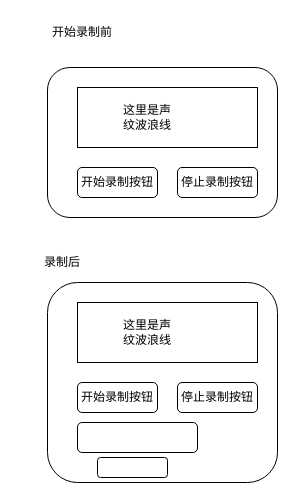
Some shapes in this 295 by 500 pixel diagram are drawn without their labels. The box of each missing label's shape, as (x1, y1, x2, y2) in pixels:
下载按钮: (96, 456, 168, 478)
可播放录音结构: (76, 422, 198, 452)
